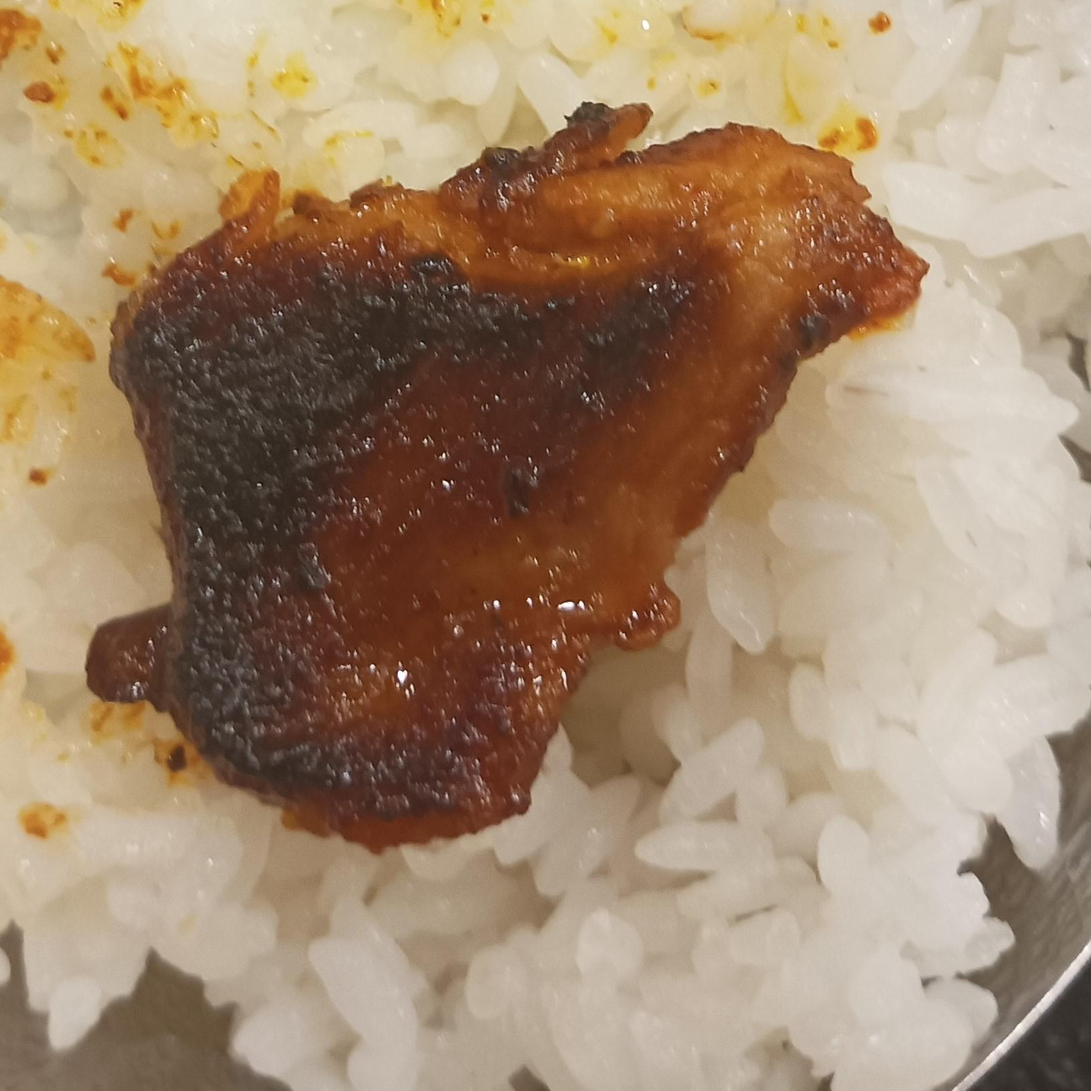Overcooked: (86, 104, 925, 846)
